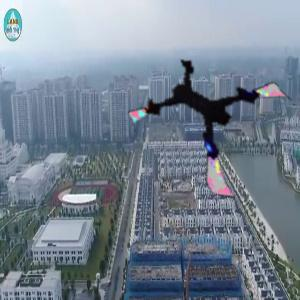drone: (146, 43, 289, 186)
